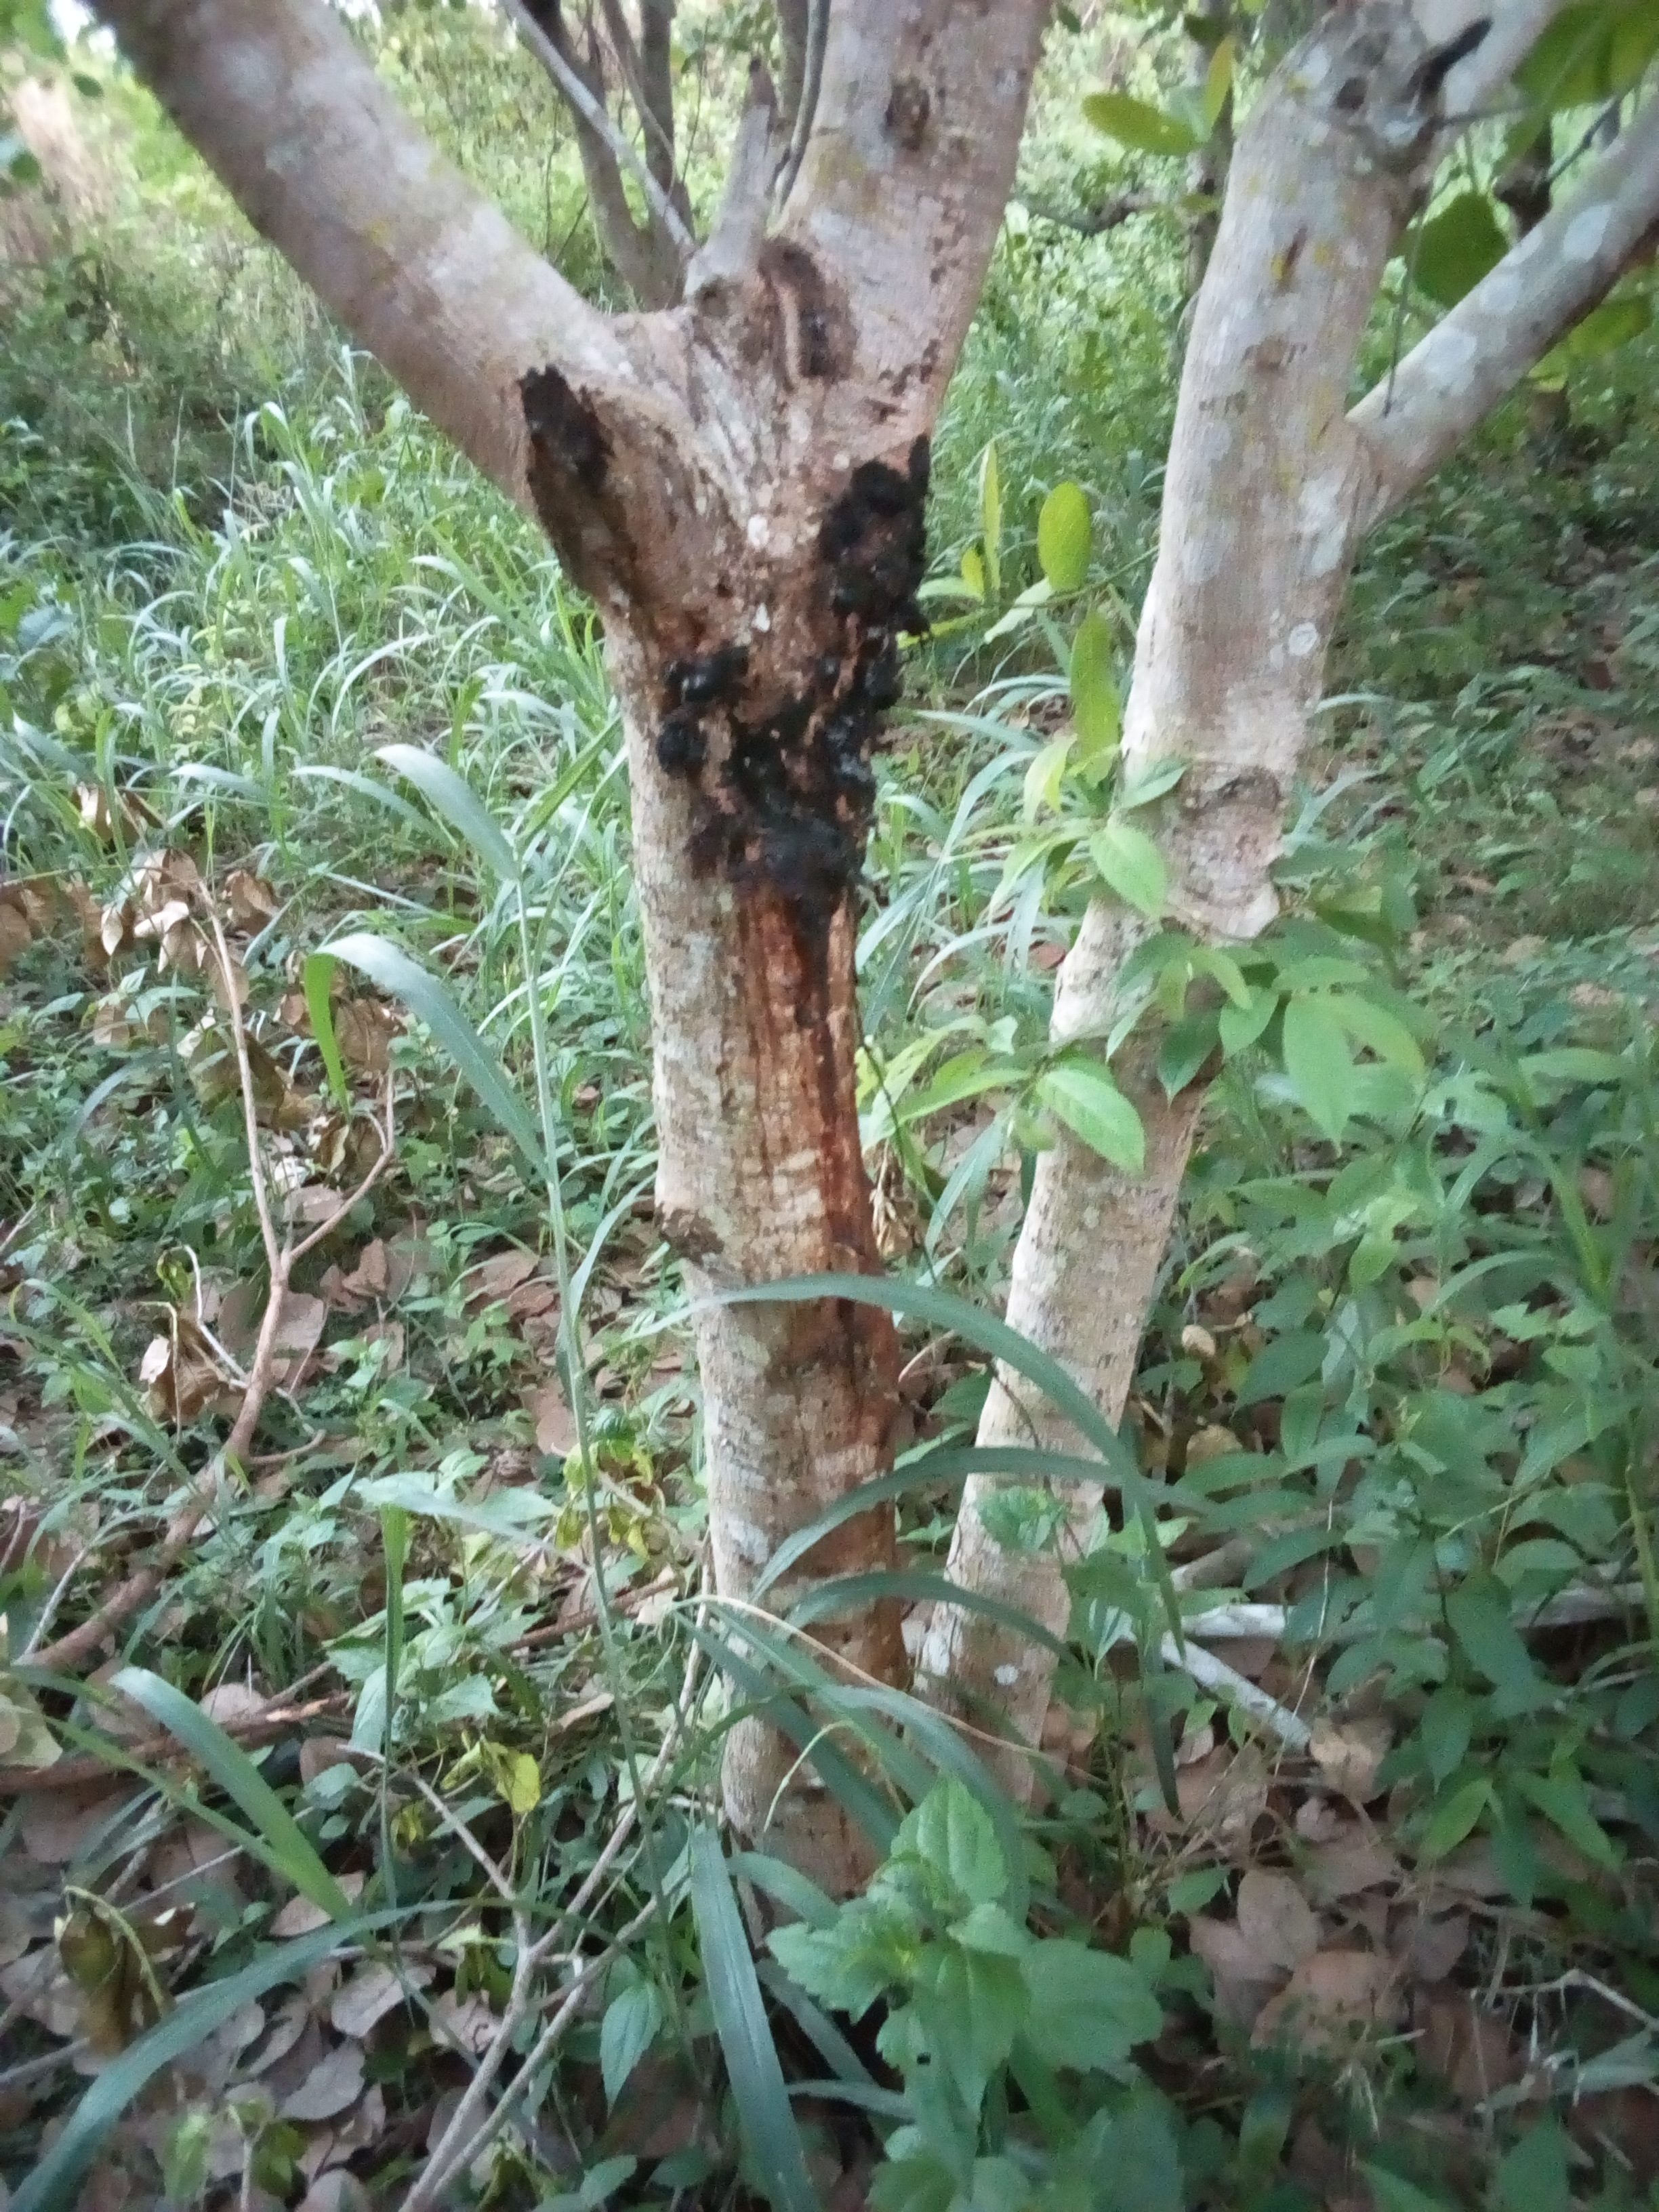Mecocorynus longiceps: (617, 435, 995, 981)
